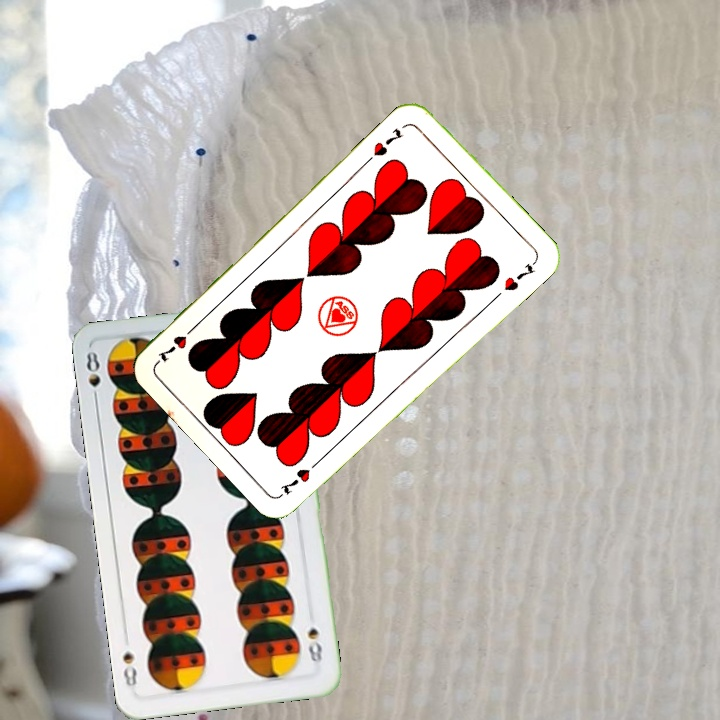H7: (276, 454, 325, 498), (369, 124, 405, 159)
S8: (80, 347, 103, 406), (303, 622, 325, 672)
